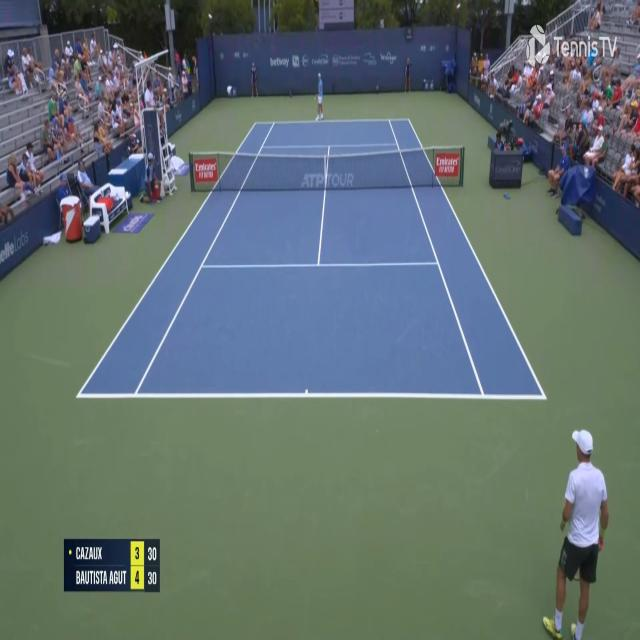tennis-player: (542, 423, 612, 640), (314, 70, 326, 122)
